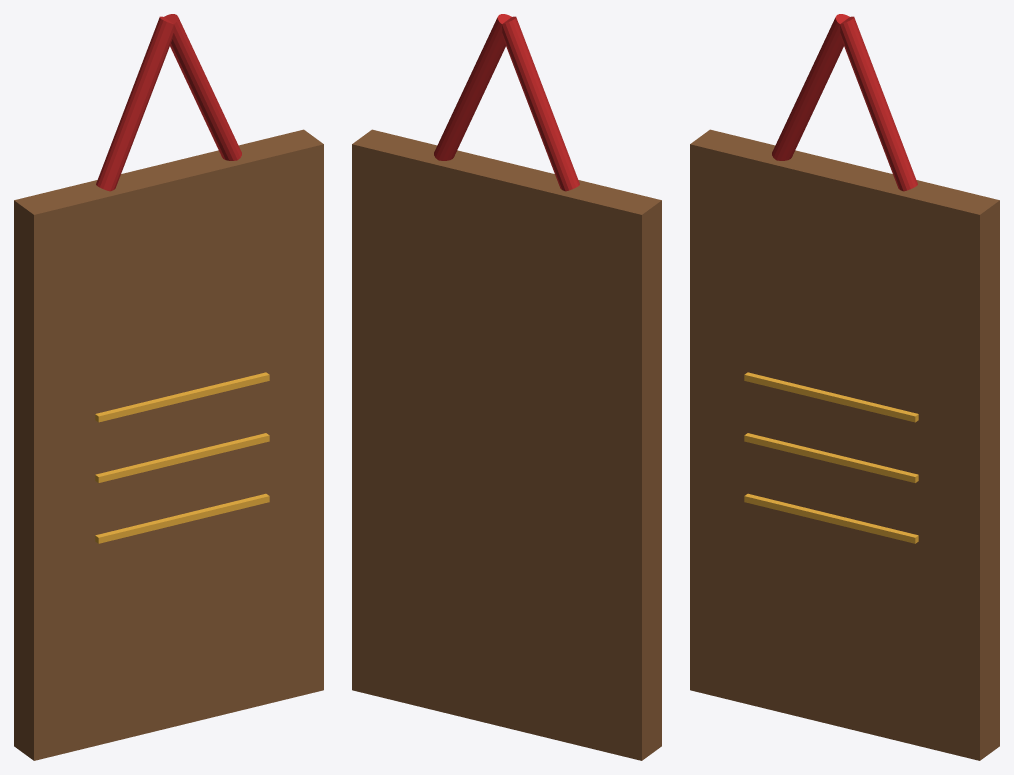
File: scendance-plan-cn-wish-tablet.glb
3 views of the same model, side by side, from view 1: azimuth 30°, elevation 25°; view 2: azimuth 150°, elevation 25°; view 3: azimuth 330°, elevation 25° (orthographic).
Bounding box in the file's own units: 0.1 × 0.2312 × 0.015.
